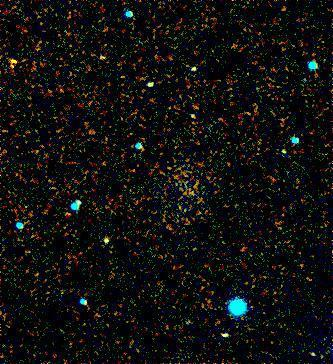star: (0, 47, 27, 77)
